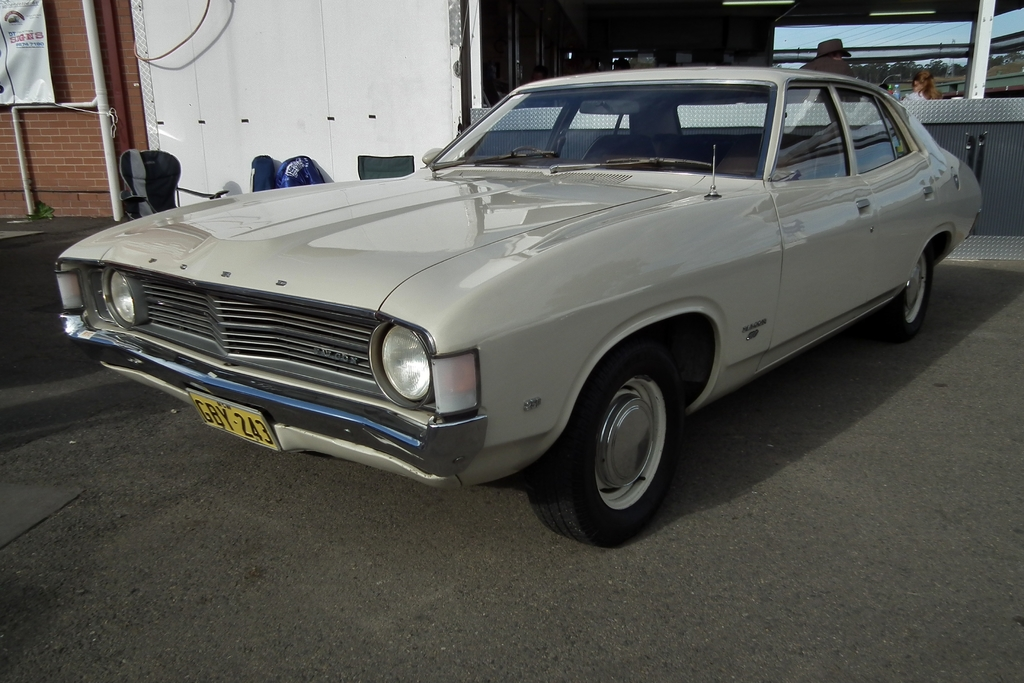Car: (35, 48, 979, 536)
